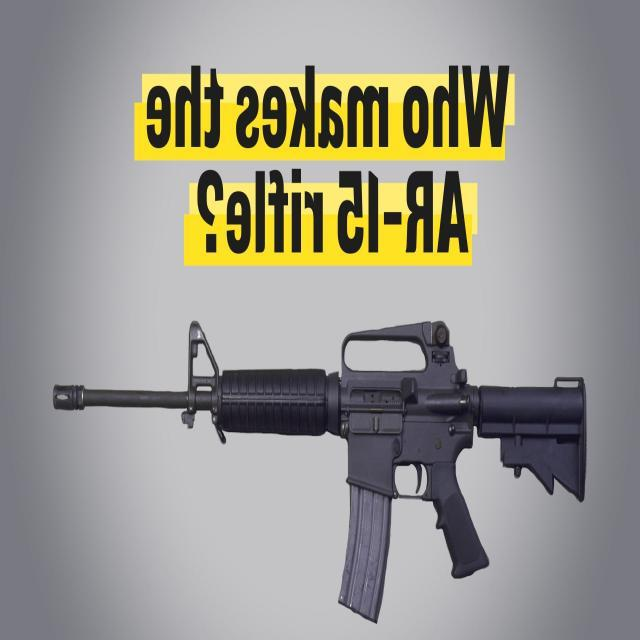rifle: (47, 296, 604, 640)
